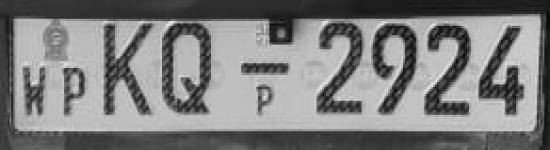-: (238, 58, 293, 82)
2: (312, 16, 368, 122), (423, 19, 475, 121)
4: (477, 21, 531, 123)
9: (371, 19, 421, 121)
K: (99, 21, 158, 122)
P: (57, 62, 90, 122)
Q: (158, 20, 215, 124)
W: (17, 59, 50, 121)
